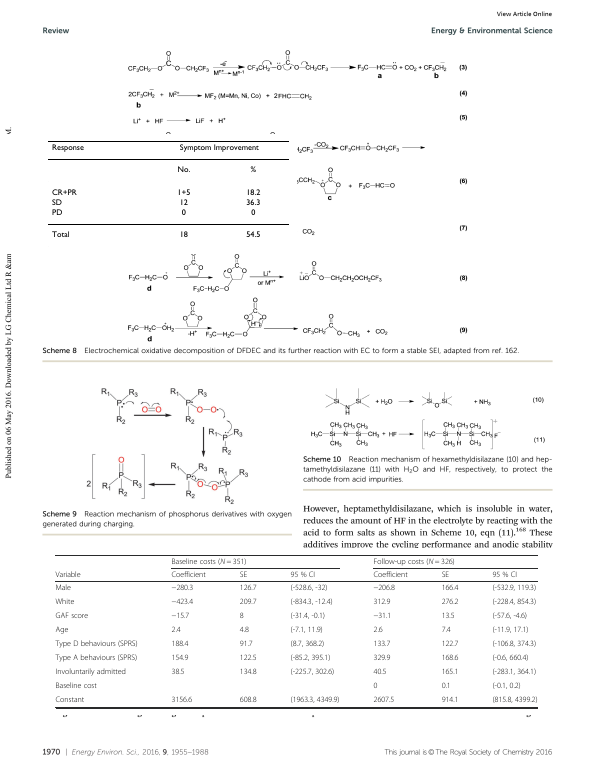borderless: (54, 553, 537, 707), (46, 139, 290, 248)
cell: (54, 639, 138, 649), (54, 653, 138, 663), (372, 557, 456, 566), (54, 667, 127, 677), (178, 144, 259, 153), (171, 557, 247, 566), (290, 695, 340, 705), (491, 695, 538, 705), (491, 583, 537, 593), (491, 597, 537, 607), (491, 639, 537, 649), (491, 667, 537, 677), (290, 667, 335, 677), (54, 681, 98, 691), (290, 597, 333, 607), (290, 653, 331, 663), (290, 583, 328, 593), (491, 625, 529, 635), (491, 653, 529, 663), (372, 570, 409, 580), (491, 611, 528, 621), (171, 570, 207, 580), (290, 611, 326, 621), (54, 611, 89, 621), (290, 639, 325, 649), (290, 625, 324, 635), (491, 681, 522, 691), (54, 695, 85, 705), (50, 144, 84, 153), (54, 570, 81, 580), (491, 570, 518, 580), (50, 188, 77, 198), (290, 570, 316, 580), (372, 583, 396, 593), (171, 583, 194, 593), (171, 597, 194, 607), (372, 695, 395, 705), (171, 695, 193, 705), (54, 597, 75, 607), (372, 611, 392, 621), (372, 597, 391, 607), (171, 611, 190, 621), (372, 639, 391, 649), (372, 653, 391, 663), (54, 583, 72, 593), (239, 583, 257, 593), (441, 583, 459, 593), (239, 597, 257, 607), (441, 597, 459, 607), (171, 639, 189, 649), (441, 639, 459, 649), (171, 653, 189, 663), (239, 653, 257, 663), (441, 653, 459, 663), (239, 667, 257, 677), (441, 667, 459, 677), (239, 695, 257, 705), (441, 695, 459, 705), (50, 231, 70, 240), (245, 188, 261, 198), (245, 198, 261, 208), (54, 625, 69, 635), (239, 639, 254, 649), (372, 667, 387, 677), (176, 188, 191, 198), (245, 231, 261, 240), (441, 611, 455, 621), (171, 667, 185, 677), (176, 166, 191, 175), (50, 198, 62, 208), (50, 209, 63, 218), (171, 625, 182, 635), (239, 625, 250, 635), (372, 625, 383, 635), (441, 625, 452, 635), (441, 681, 452, 691), (178, 198, 188, 208), (239, 570, 248, 580), (441, 570, 450, 580), (178, 231, 188, 240), (249, 166, 257, 175), (239, 611, 245, 621), (372, 681, 378, 691), (180, 209, 186, 218), (250, 209, 256, 218)
